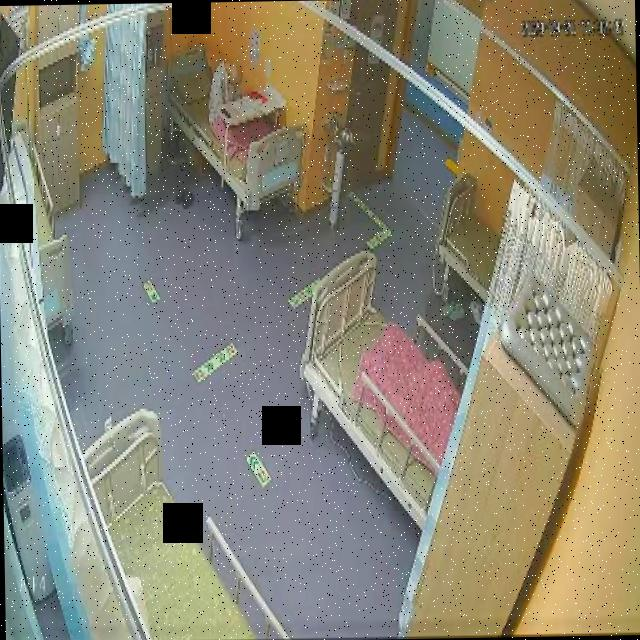bed: (79, 409, 288, 640), (300, 251, 462, 528), (159, 42, 307, 214), (436, 172, 501, 304)
patient: (206, 56, 246, 126)
sit: (206, 51, 244, 119)
